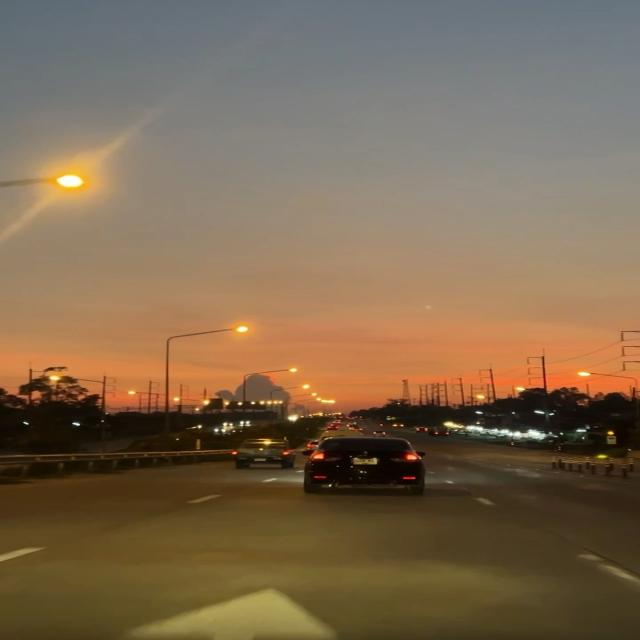Poth-hole: (69, 479, 592, 640)
